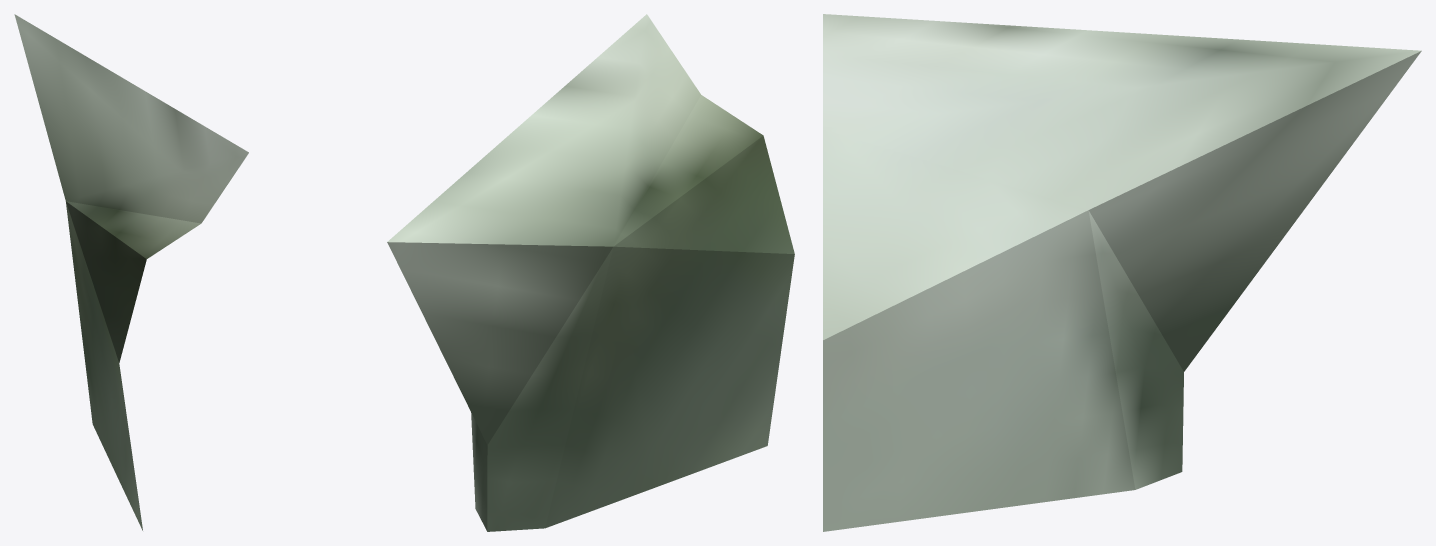
The picture shows the model from 3 angles, left to right: view 1: azimuth 30°, elevation 25°; view 2: azimuth 150°, elevation 25°; view 3: azimuth 270°, elevation 25°; orthographic projection. The views are drawn at different scales.
Bounding box in the file's own units: 0.1772 × 0.2502 × 0.2971.
Materials: 1 (1 with a texture image).
